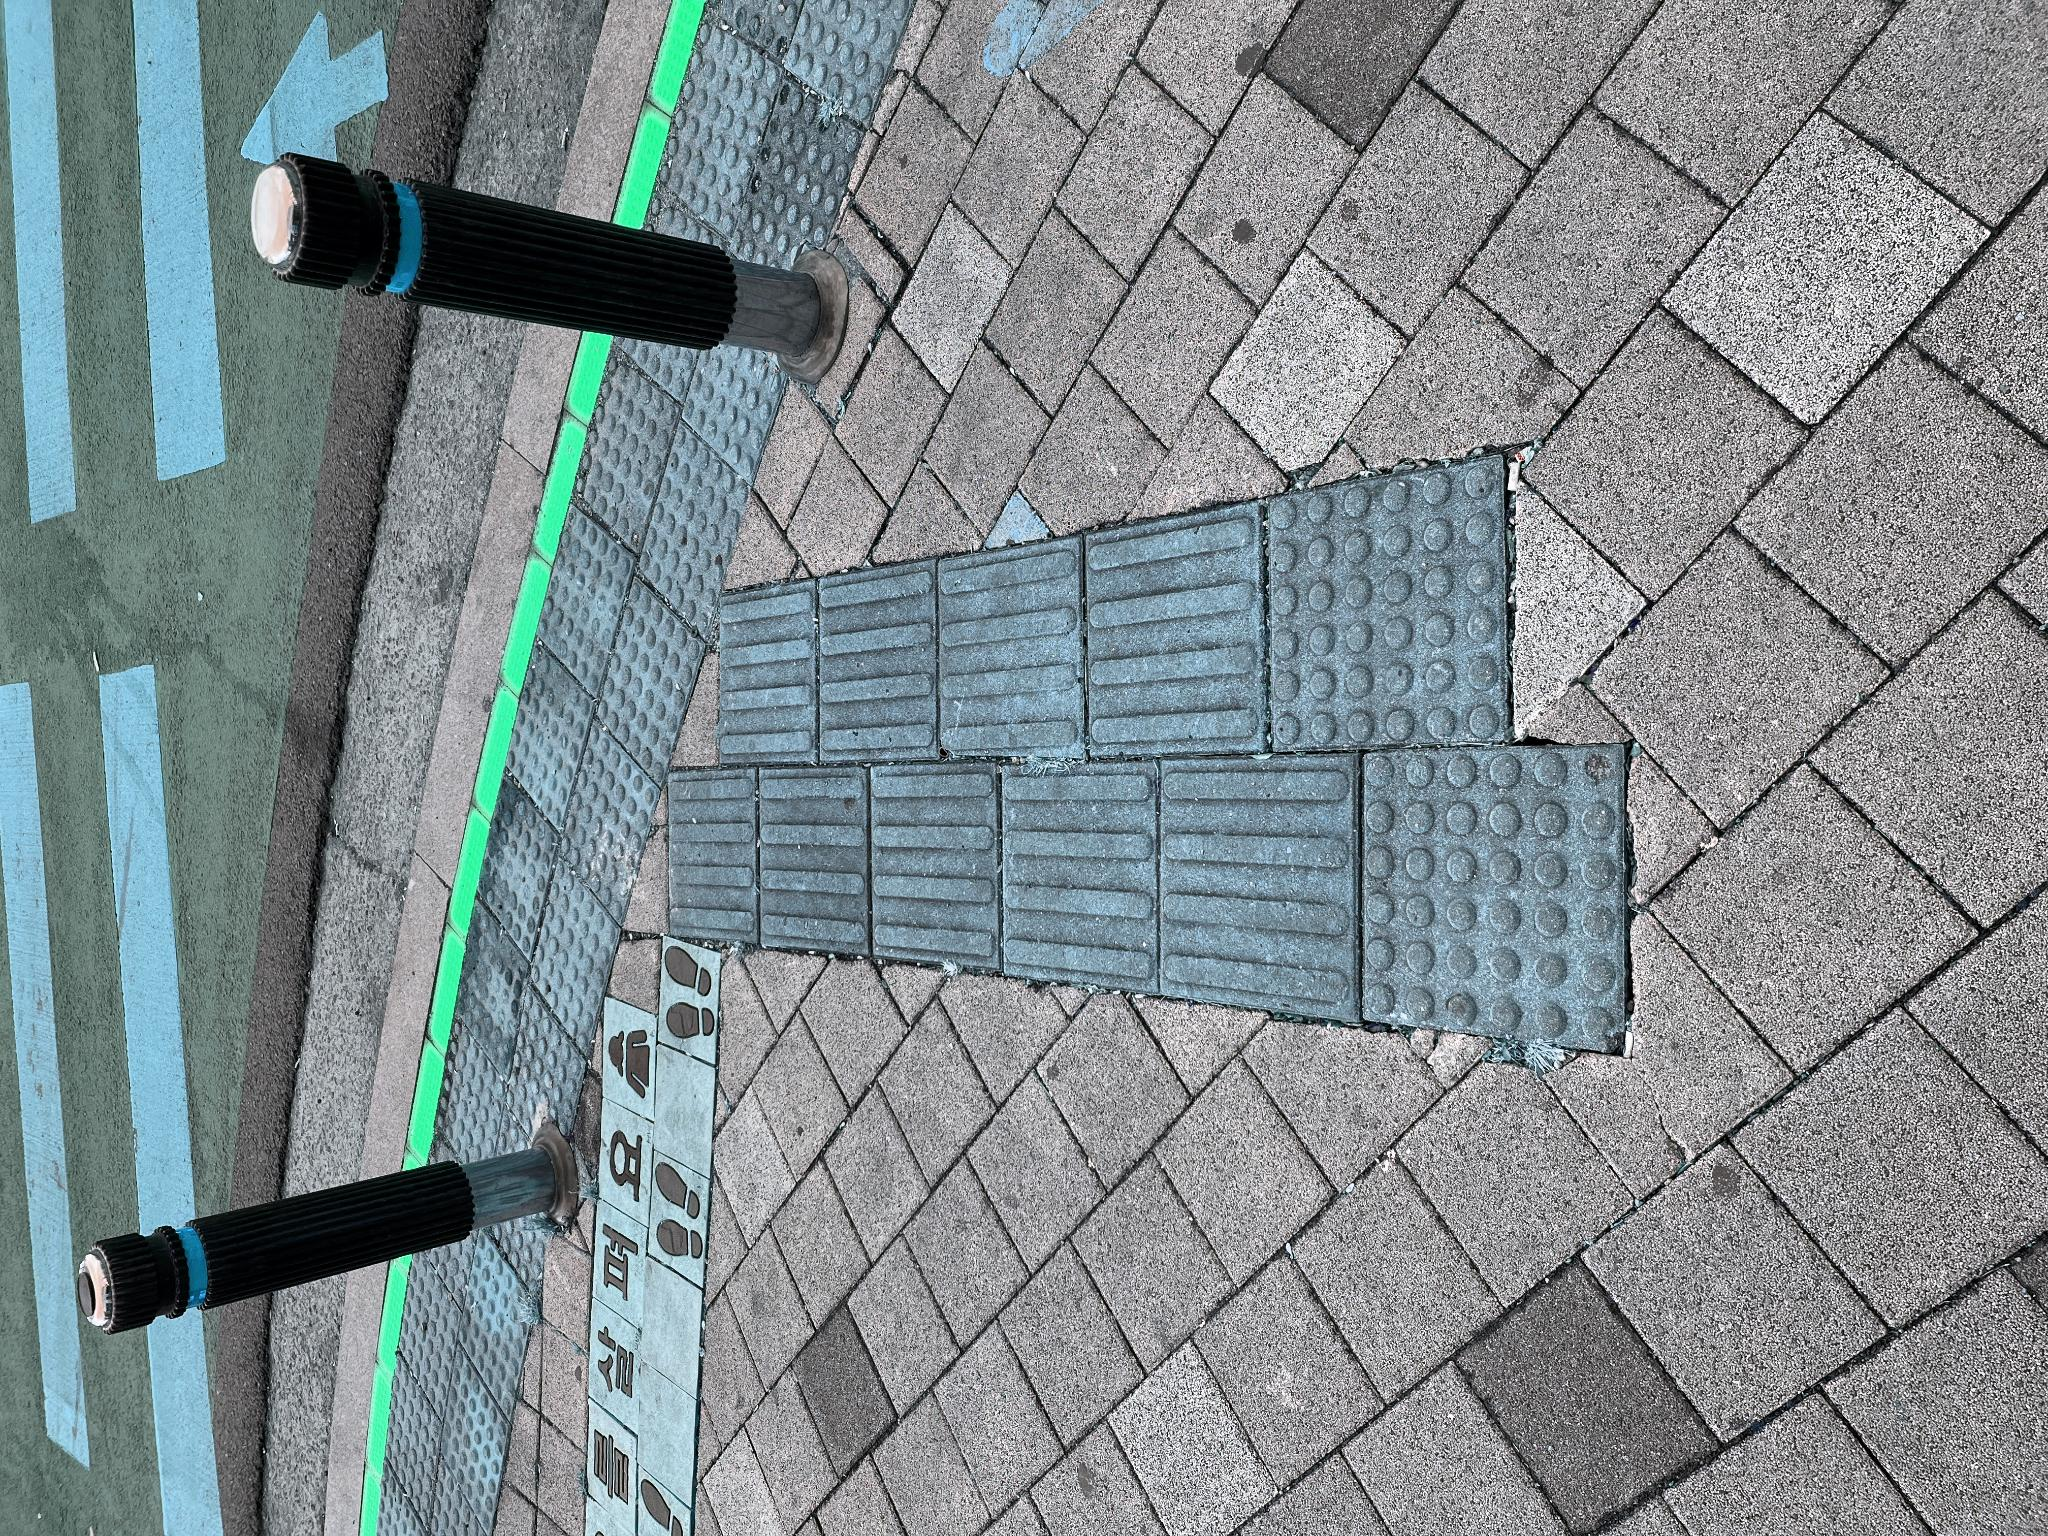Stop block normal: (789, 1273, 1079, 1507), (495, 1367, 782, 1536), (897, 639, 1113, 749), (751, 597, 956, 702), (984, 576, 1184, 679), (610, 560, 814, 658), (839, 537, 1032, 634), (479, 531, 681, 618), (706, 507, 893, 592), (577, 479, 761, 557)
Straight block normal: (518, 1162, 780, 1355), (784, 1086, 1034, 1260), (545, 1004, 772, 1157), (780, 941, 997, 1083), (568, 871, 776, 997), (776, 820, 976, 936), (584, 760, 769, 866), (774, 720, 953, 813), (595, 670, 764, 758)
